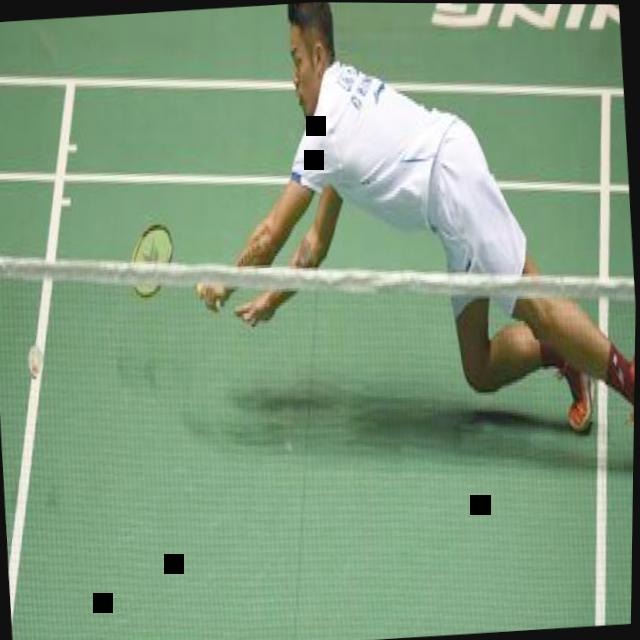Fall-Detected: (185, 1, 640, 474)
